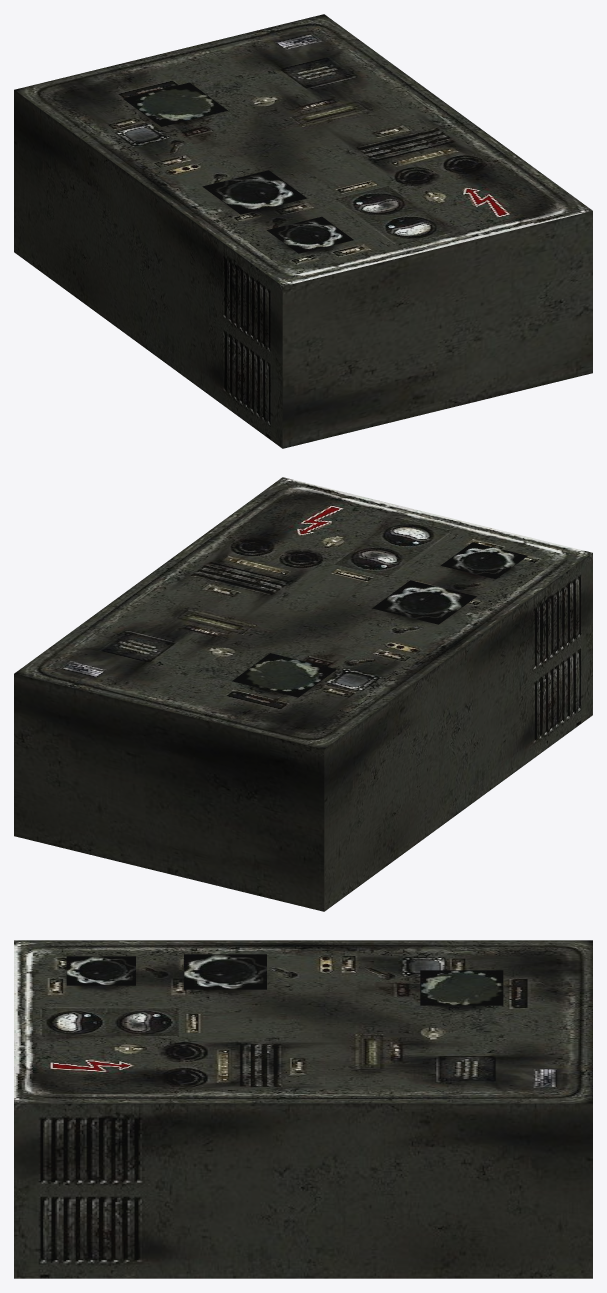
Rendered from military_german_radio1_green_d.glb.
3 views of the same model, one above another, from view 1: azimuth 30°, elevation 25°; view 2: azimuth 150°, elevation 25°; view 3: azimuth 270°, elevation 25° (orthographic). The views are drawn at different scales.
Size of the model in its own units: 24.43 by 12.59 by 36.64.
3 materials, 3 textured.
